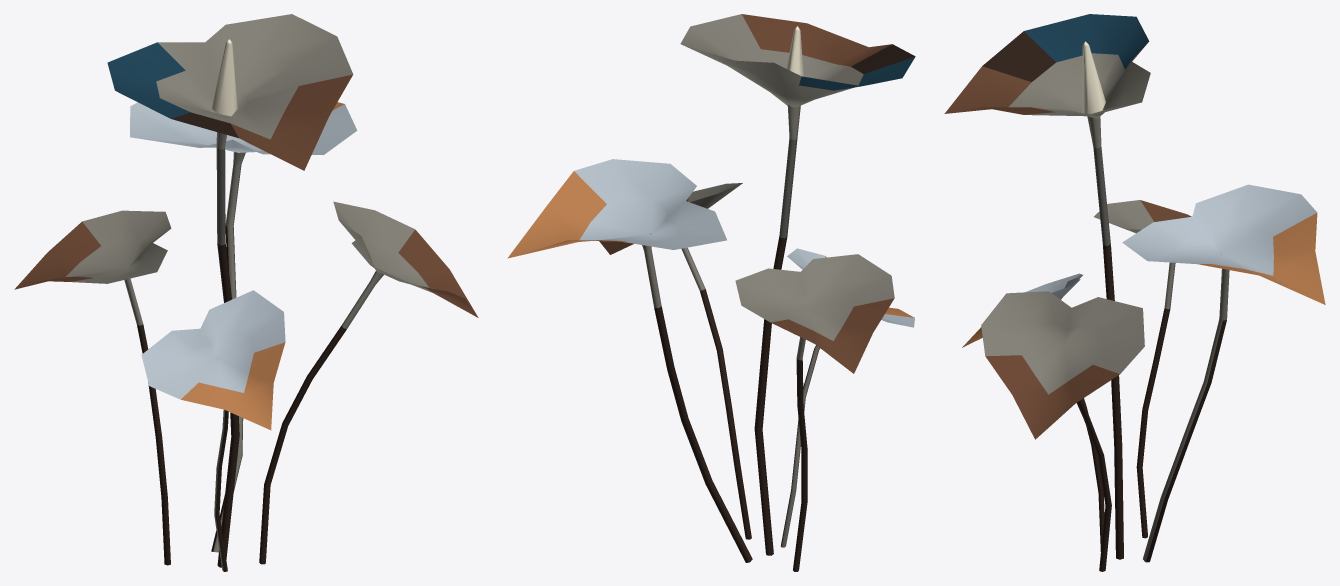
Rendered from itch_assetquest_pond_swamp_calla_1.glb.
3 views of the same model, side by side, from view 1: azimuth 30°, elevation 25°; view 2: azimuth 150°, elevation 25°; view 3: azimuth 270°, elevation 25° (orthographic). The views are drawn at different scales.
Visible parts, largest first — view 1: Swamp_Calla_1; view 2: Swamp_Calla_1; view 3: Swamp_Calla_1.
Boxes of the visible parts, x1,y1,x2,y2 form: Swamp_Calla_1: [14, 14, 478, 571]; Swamp_Calla_1: [507, 14, 915, 571]; Swamp_Calla_1: [944, 14, 1325, 571].
Bounding box in the file's own units: 0.96 × 1.38 × 0.9339.
